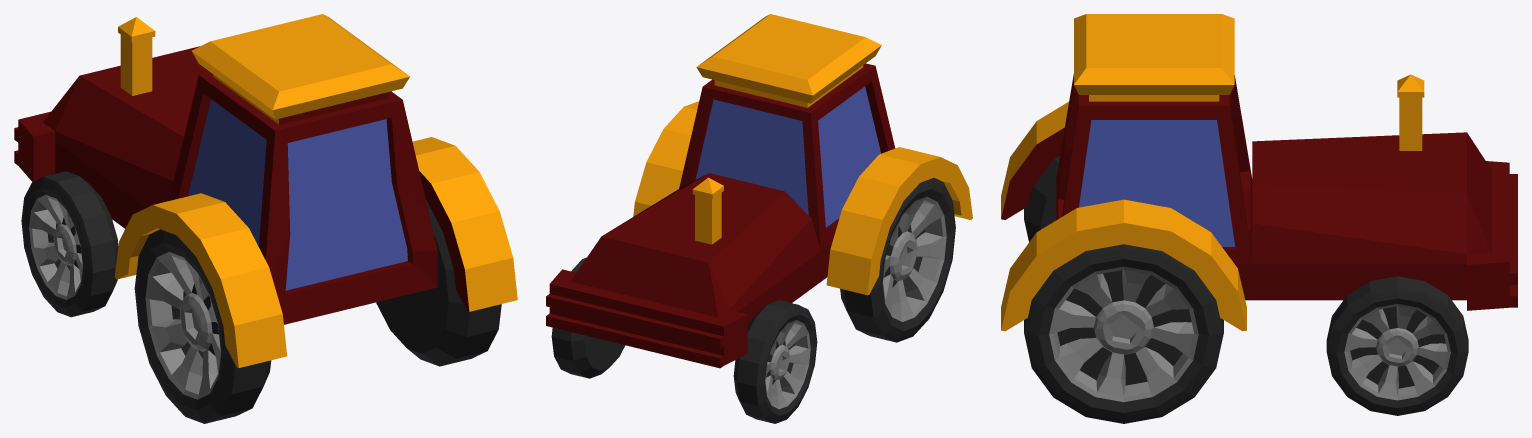
File: Tractor.fbx
The picture shows the model from 3 angles, left to right: view 1: azimuth 30°, elevation 25°; view 2: azimuth 150°, elevation 25°; view 3: azimuth 270°, elevation 25°; orthographic projection. The views are drawn at different scales.
Parts seen in each view (by area): view 1: Tractor; view 2: Tractor; view 3: Tractor.
Boxes of the visible parts, x1,y1,x2,y2 form: Tractor: (14,14,517,423); Tractor: (546,14,972,423); Tractor: (1001,14,1517,423).
Size of the model in its own units: 16.96 by 18.54 by 27.37.
